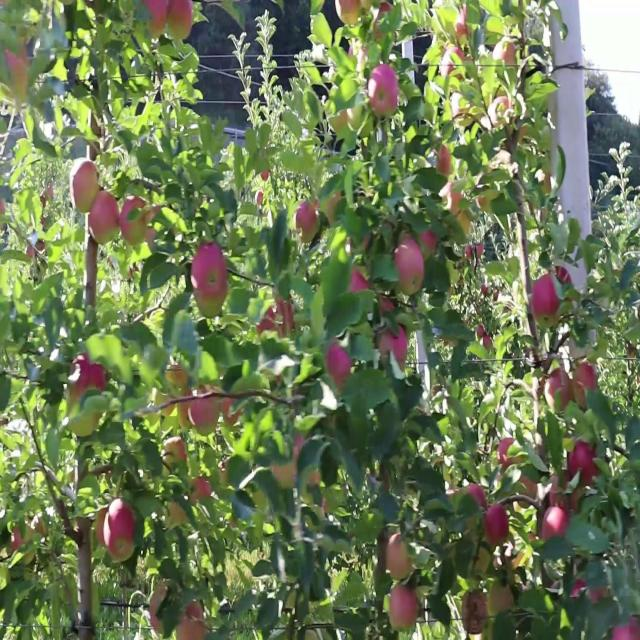apple: (190, 242, 228, 312), (104, 498, 135, 560), (271, 433, 305, 489), (69, 353, 106, 402), (394, 238, 424, 296), (440, 182, 471, 236), (70, 158, 99, 213), (89, 191, 119, 244), (368, 64, 398, 116), (256, 300, 295, 336), (568, 440, 599, 484), (531, 273, 560, 320), (389, 584, 419, 629), (379, 324, 408, 368), (119, 198, 146, 244), (325, 342, 351, 389), (176, 600, 206, 640), (189, 398, 220, 436), (549, 473, 580, 511), (386, 533, 411, 580), (544, 367, 571, 410), (571, 362, 596, 408), (5, 47, 30, 93), (461, 591, 488, 633), (448, 198, 473, 239), (295, 200, 319, 242), (484, 504, 509, 544), (168, 0, 192, 40), (541, 507, 569, 540), (150, 582, 168, 633), (488, 582, 514, 616), (165, 362, 191, 396), (440, 44, 465, 77), (549, 473, 570, 511), (565, 471, 584, 513), (162, 436, 186, 467), (451, 206, 473, 238), (440, 182, 462, 214), (492, 38, 516, 67), (11, 524, 36, 550), (611, 618, 640, 640), (322, 191, 341, 224), (335, 0, 361, 24), (374, 2, 391, 38), (220, 398, 241, 427), (419, 229, 438, 260), (455, 4, 470, 40), (190, 476, 211, 501), (349, 267, 369, 293), (498, 438, 514, 469), (436, 144, 451, 176), (468, 484, 486, 507), (520, 476, 538, 498), (464, 242, 484, 260), (555, 264, 571, 284), (145, 204, 161, 223), (379, 296, 394, 316), (178, 402, 190, 427), (145, 227, 155, 249), (255, 189, 264, 207), (260, 169, 269, 182)
